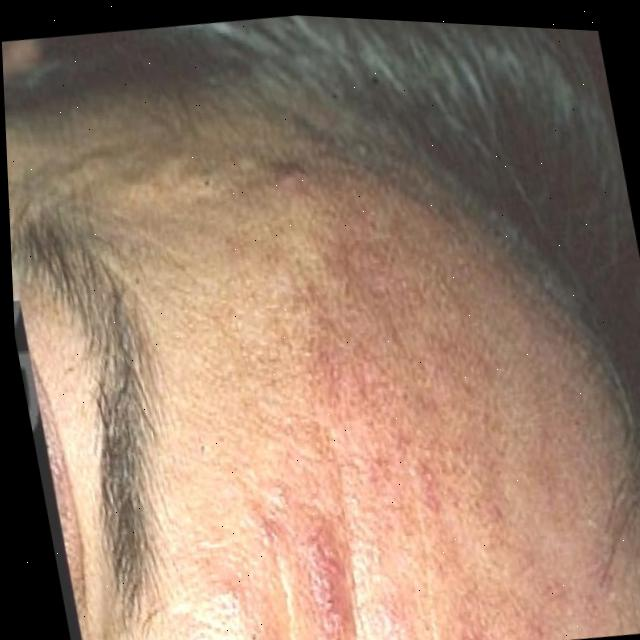Rosacea: (181, 354, 560, 640)
